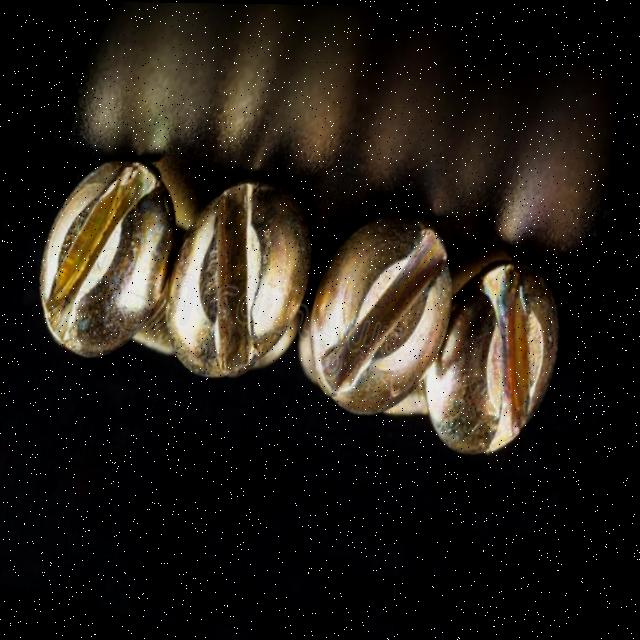Slotted: (1, 138, 199, 395), (138, 161, 338, 413), (278, 195, 478, 443), (409, 236, 591, 468)
